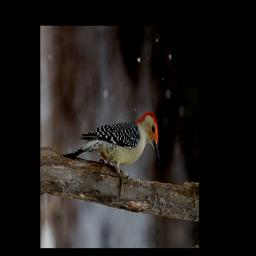Woodpecker: (63, 111, 162, 205)
